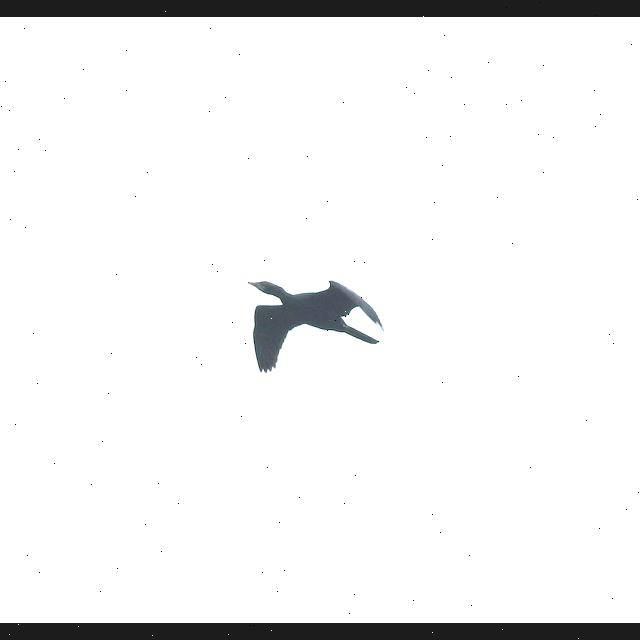cormorant: (240, 272, 384, 384)
